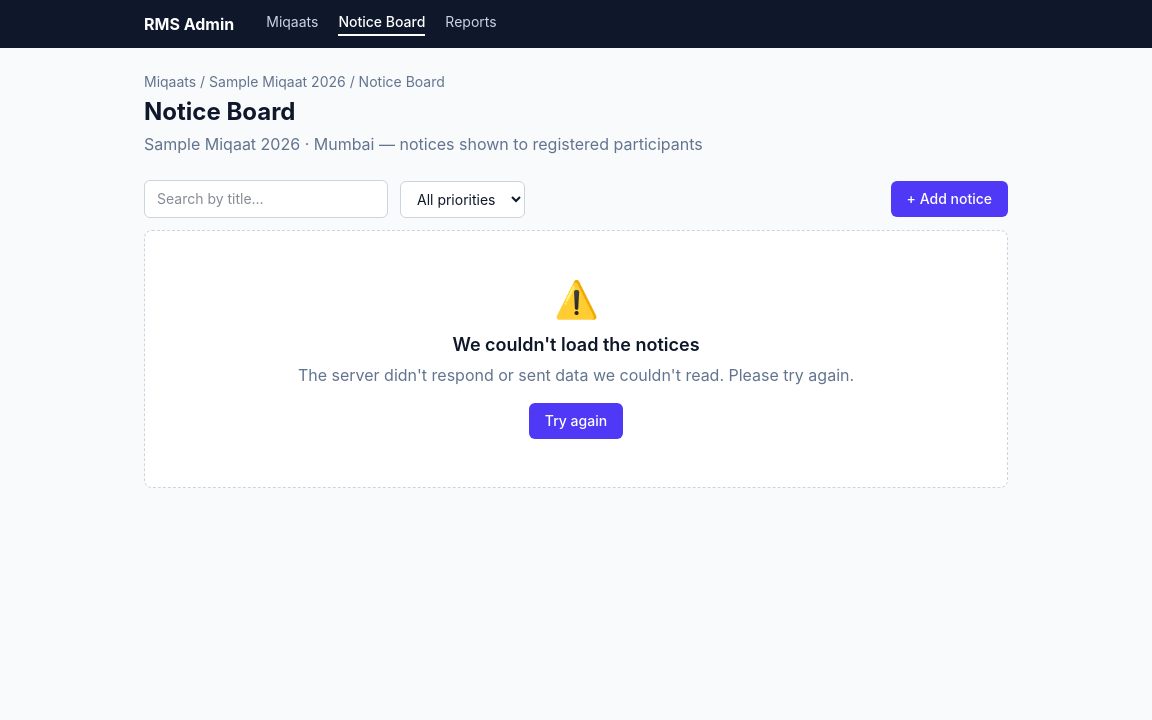
Test case: NoticeBoard › shows the error state when the data does not match the schema, and recovers on retry
The width and height of the screenshot is (1152, 720).
Expected: the heading "We couldn't load the notices" is shown, [452, 331, 700, 359]
Step 1. Click the button "Try again" → (576, 421), box [529, 403, 623, 439]
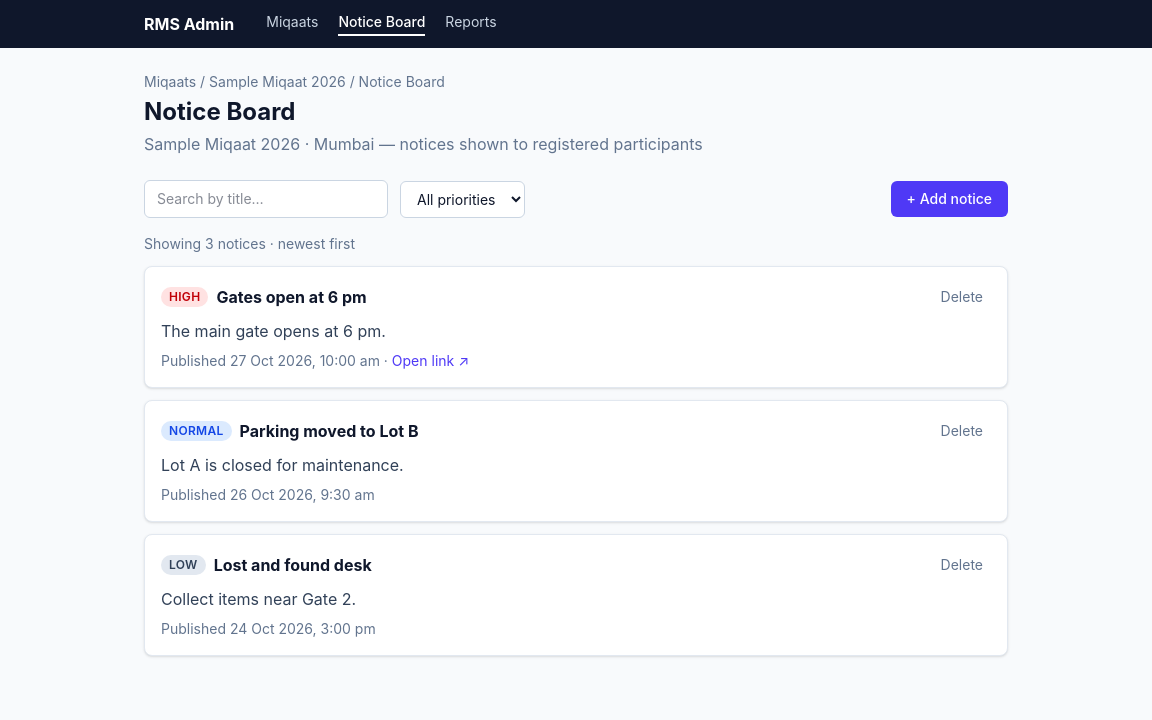
Now the text "Showing 3 notices · newest first" is shown, box [144, 235, 355, 252]
